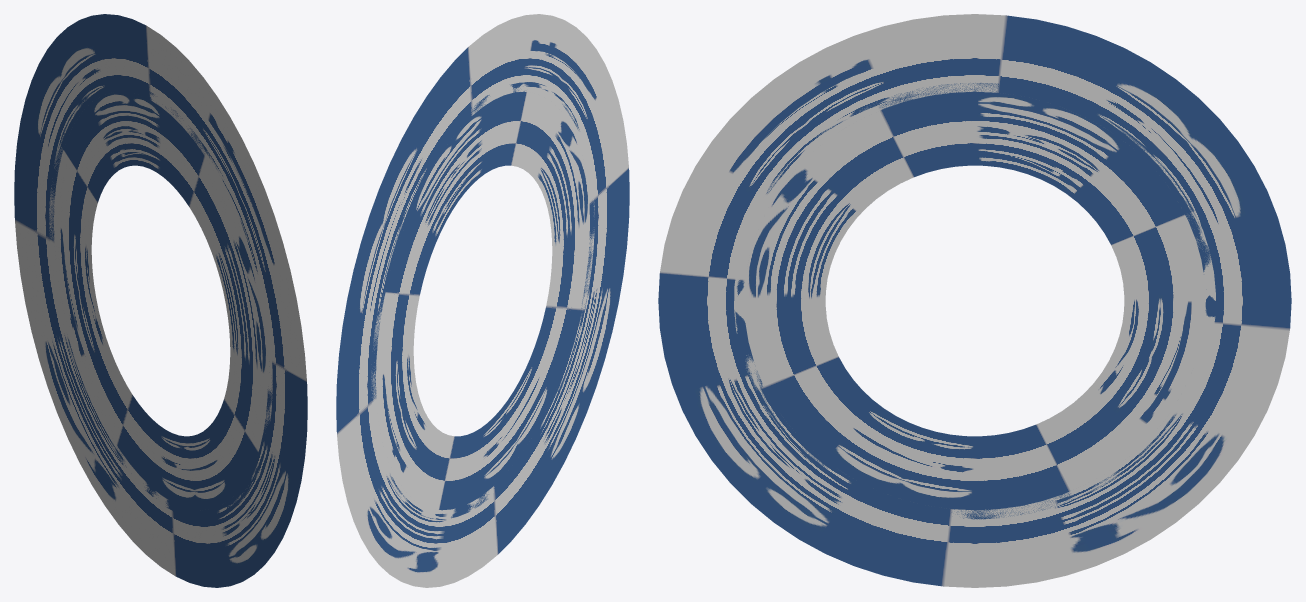
The model's file is Enmu_Ring3.fbx.
The picture shows the model from 3 angles, left to right: view 1: azimuth 30°, elevation 25°; view 2: azimuth 150°, elevation 25°; view 3: azimuth 270°, elevation 25°; orthographic projection. The views are drawn at different scales.
Parts seen in each view (by area): view 1: SM_e_Plc_P1011_Ring003; view 2: SM_e_Plc_P1011_Ring003; view 3: SM_e_Plc_P1011_Ring003.
Boxes of the visible parts, <box> form: SM_e_Plc_P1011_Ring003: <box>14,14,307,587</box>; SM_e_Plc_P1011_Ring003: <box>336,14,629,587</box>; SM_e_Plc_P1011_Ring003: <box>658,14,1291,587</box>.
Bounding box in the file's own units: 0 × 97.46 × 97.46.
